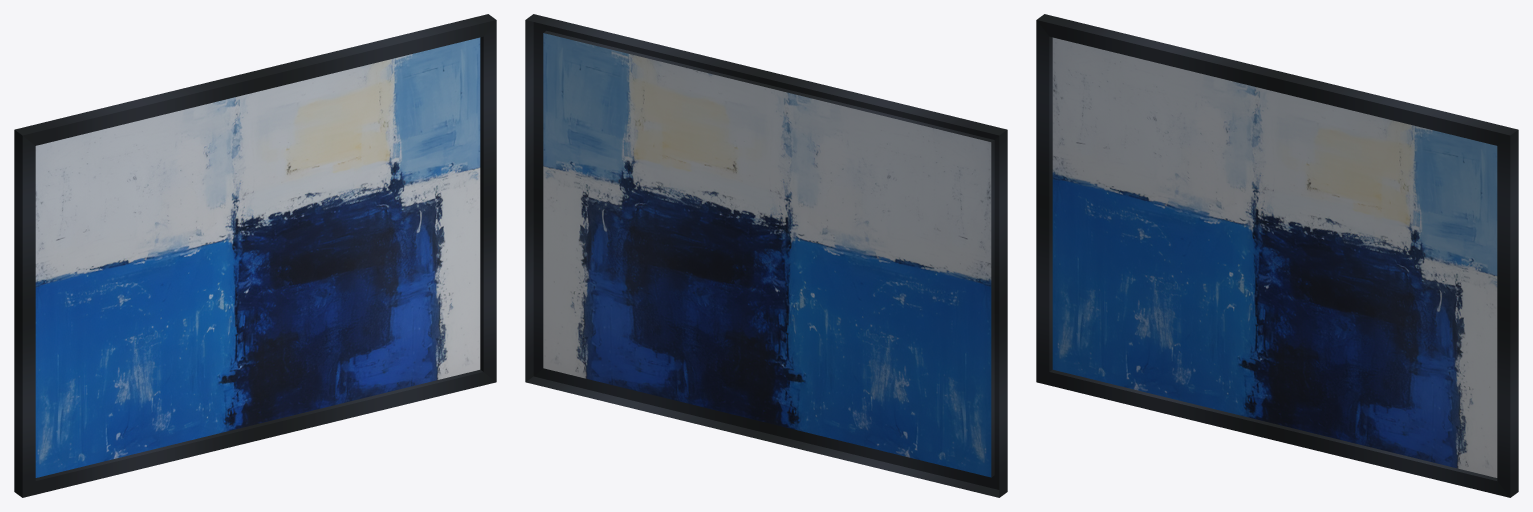
The model's file is wallart01.glb.
3 views of the same model, side by side, from view 1: azimuth 30°, elevation 25°; view 2: azimuth 150°, elevation 25°; view 3: azimuth 330°, elevation 25° (orthographic).
Parts seen in each view (by area): view 1: art01; view 2: art01; view 3: art01.
Boxes of the visible parts, bbox=[...] form: art01: bbox=[14, 14, 496, 497]; art01: bbox=[525, 14, 1007, 497]; art01: bbox=[1036, 14, 1518, 497].
Bounding box in the file's own units: 2 × 1.46 × 0.0591.
1 material, 1 textured.
